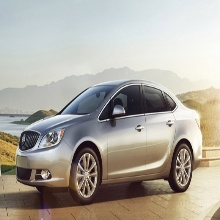no damage: (14, 77, 204, 203)
